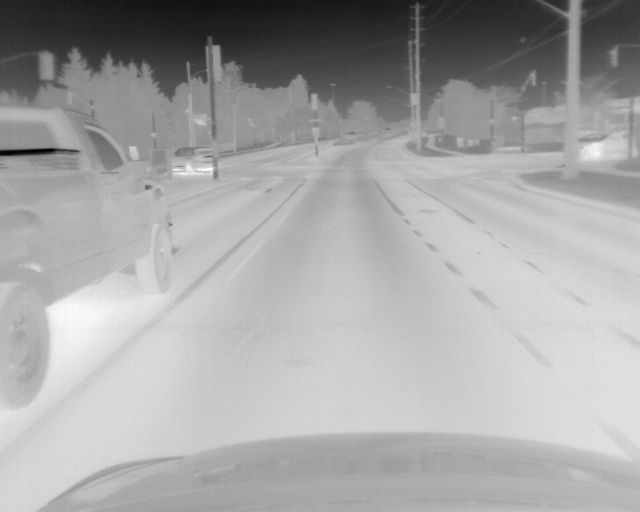car: (1, 105, 178, 404), (580, 130, 633, 160), (172, 146, 214, 177)
